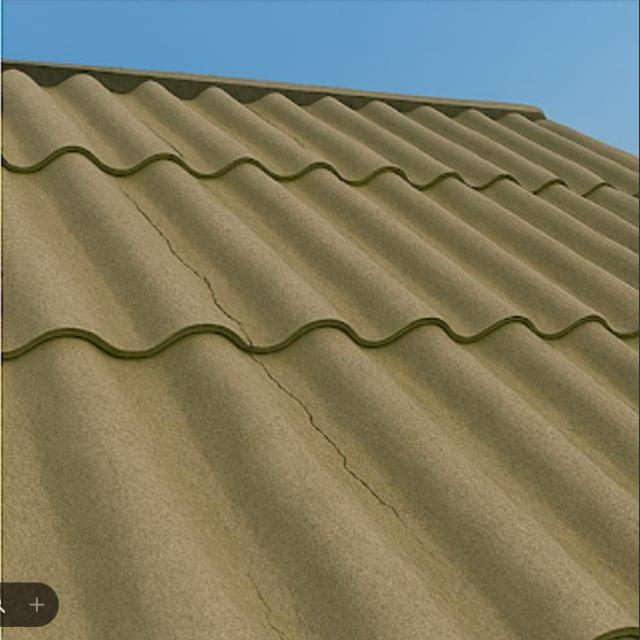fissure: (103, 178, 407, 520)
